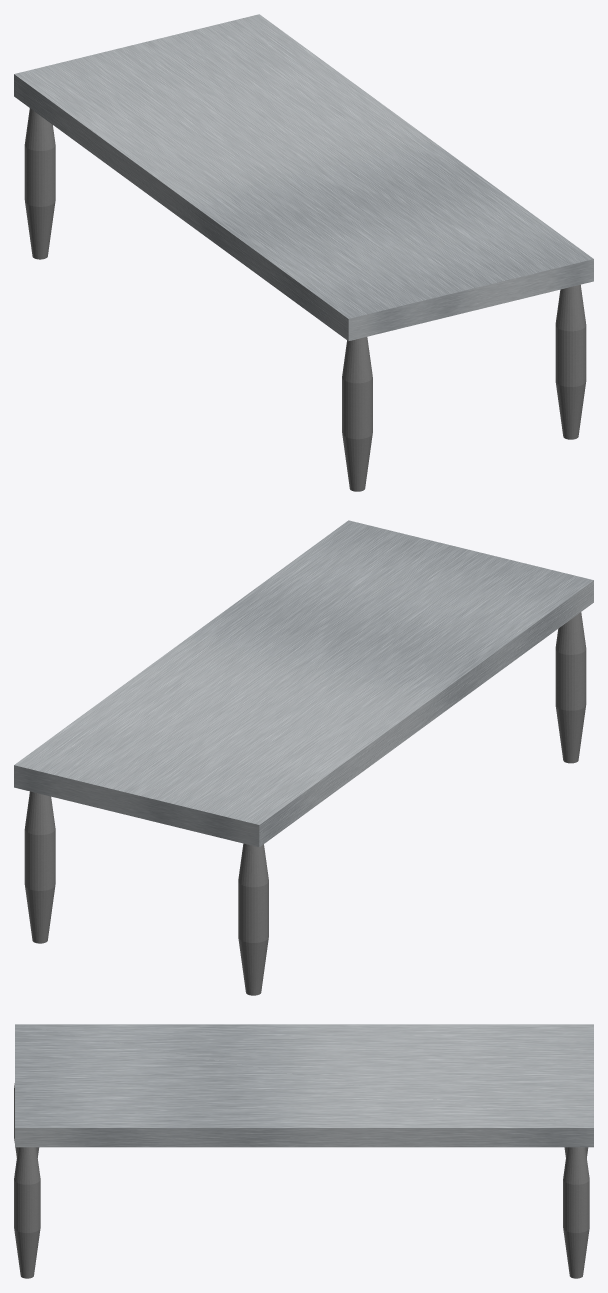
File: MetalTable2.fbx
3 views of the same model, one above another, from view 1: azimuth 30°, elevation 25°; view 2: azimuth 150°, elevation 25°; view 3: azimuth 270°, elevation 25° (orthographic). The views are drawn at different scales.
Visible parts, largest first — view 1: Cube, Cylinder.001, Cylinder.004, Cylinder.005; view 2: Cube, Cylinder.003, Cylinder.005, Cylinder.004; view 3: Cube, Cylinder.001, Cylinder.003.
Part boxes in pixels (bbox=[...]): Cube: bbox=[14, 14, 593, 341]; Cylinder.001: bbox=[555, 284, 586, 439]; Cylinder.004: bbox=[342, 337, 372, 491]; Cylinder.005: bbox=[24, 108, 55, 259]; Cube: bbox=[14, 520, 593, 847]; Cylinder.003: bbox=[24, 791, 55, 943]; Cylinder.005: bbox=[238, 843, 268, 995]; Cylinder.004: bbox=[555, 612, 586, 763]; Cube: bbox=[15, 1024, 593, 1147]; Cylinder.001: bbox=[14, 1147, 40, 1278]; Cylinder.003: bbox=[563, 1147, 589, 1278].
Bounding box in the file's own units: 460 × 320 × 1088.
